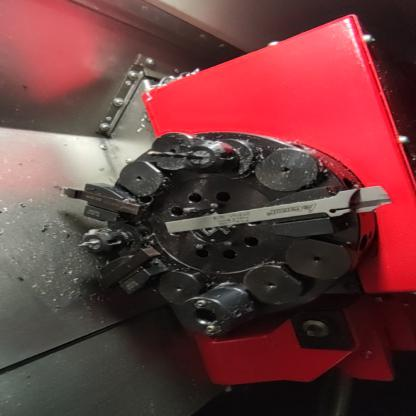bit: (158, 180, 400, 241), (85, 244, 176, 299), (54, 180, 156, 224)
